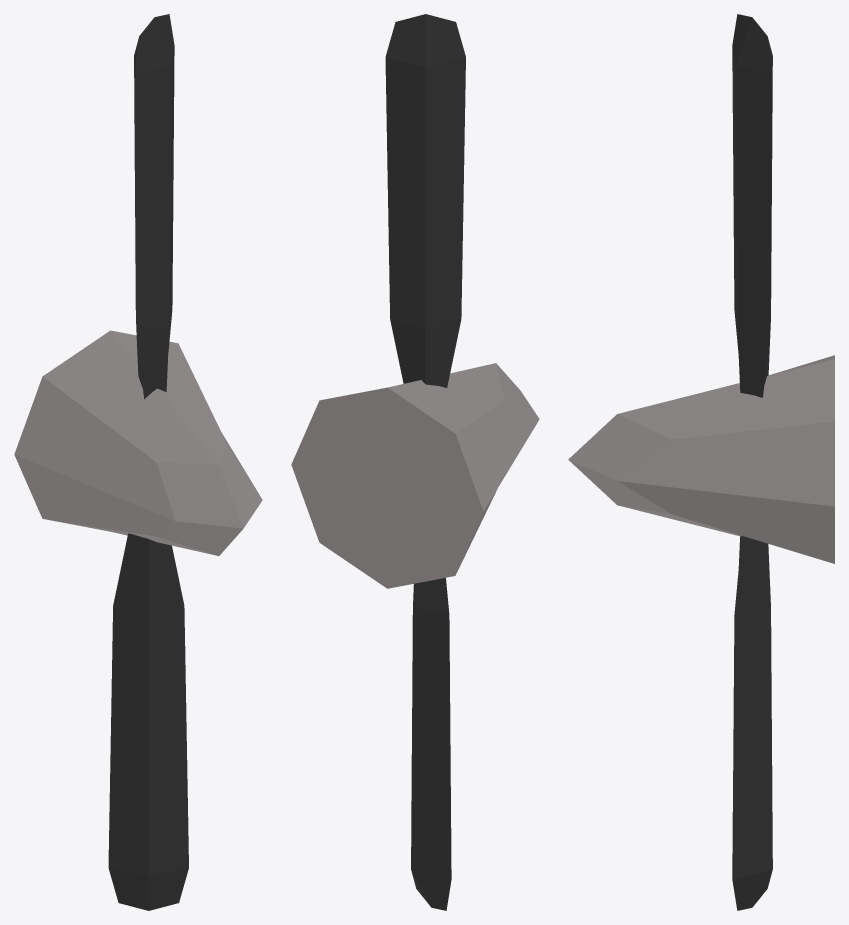
The model's file is floatplane-propeller.glb.
3 renders of one model, left to right at view 1: azimuth 30°, elevation 25°; view 2: azimuth 150°, elevation 25°; view 3: azimuth 270°, elevation 25°, orthographic.
Visible parts, largest first — view 1: floatplane-propeller; view 2: floatplane-propeller; view 3: floatplane-propeller.
Part boxes in pixels (x1=…): floatplane-propeller: x1=14, y1=14, x2=262, y2=910; floatplane-propeller: x1=291, y1=14, x2=539, y2=910; floatplane-propeller: x1=568, y1=14, x2=834, y2=910.
Size of the model in its own units: 0.5041 by 2.24 by 0.6048.
1 material, 1 textured.
